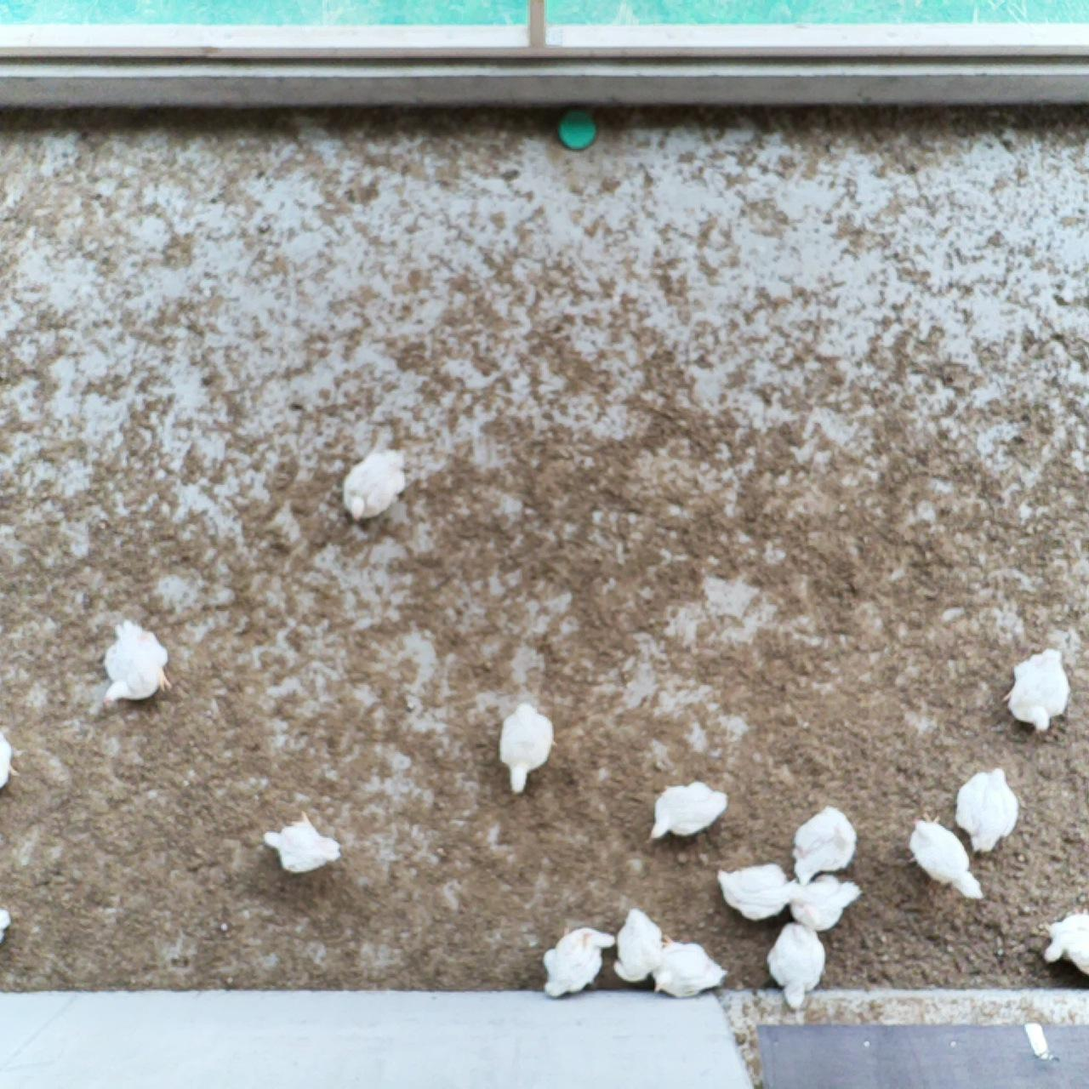chicken: (902, 811, 988, 906), (99, 615, 177, 709), (998, 646, 1077, 736), (492, 696, 560, 798), (951, 766, 1021, 855), (539, 922, 618, 1000), (790, 801, 861, 887), (766, 915, 828, 1013), (261, 807, 346, 877), (338, 445, 411, 523), (644, 778, 730, 843), (648, 931, 731, 997), (712, 857, 793, 922), (783, 871, 865, 932), (612, 905, 666, 982), (1038, 910, 1089, 978), (0, 730, 22, 793)
